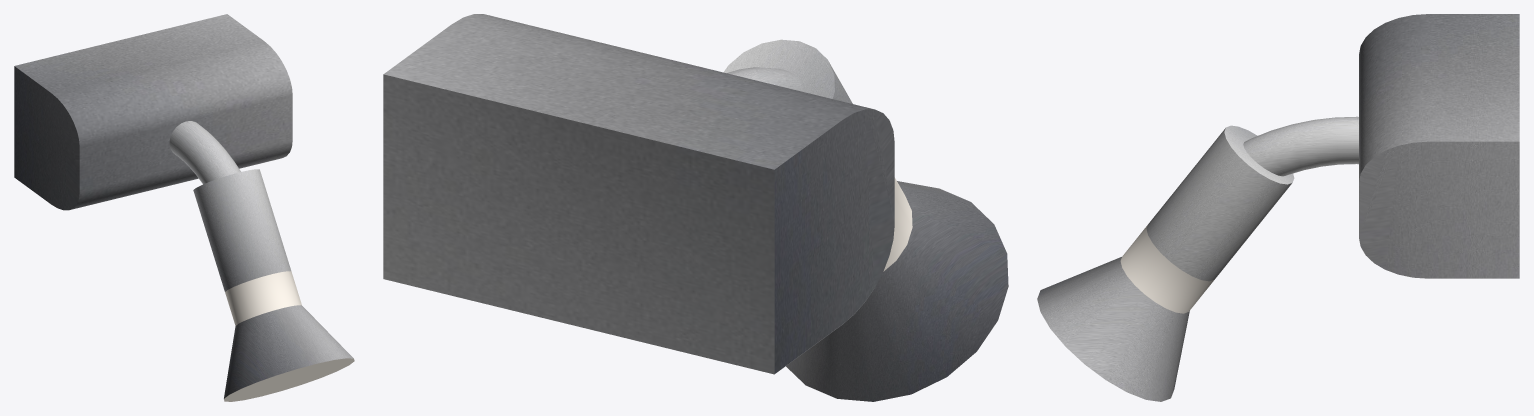
The model's file is lampara.obj.
3 renders of one model, left to right at view 1: azimuth 30°, elevation 25°; view 2: azimuth 150°, elevation 25°; view 3: azimuth 270°, elevation 25°, orthographic. The views are drawn at different scales.
Visible parts, largest first — view 1: lampara:pCylinder3; view 2: lampara:pCylinder3; view 3: lampara:pCylinder3.
Part boxes in pixels (left/top/right/bottom): lampara:pCylinder3: left=14, top=14, right=354, bottom=401; lampara:pCylinder3: left=383, top=14, right=1008, bottom=401; lampara:pCylinder3: left=1037, top=14, right=1519, bottom=401.
Size of the model in its own units: 0.1806 by 0.2055 by 0.2884.
Materials: 2 (2 with a texture image).
